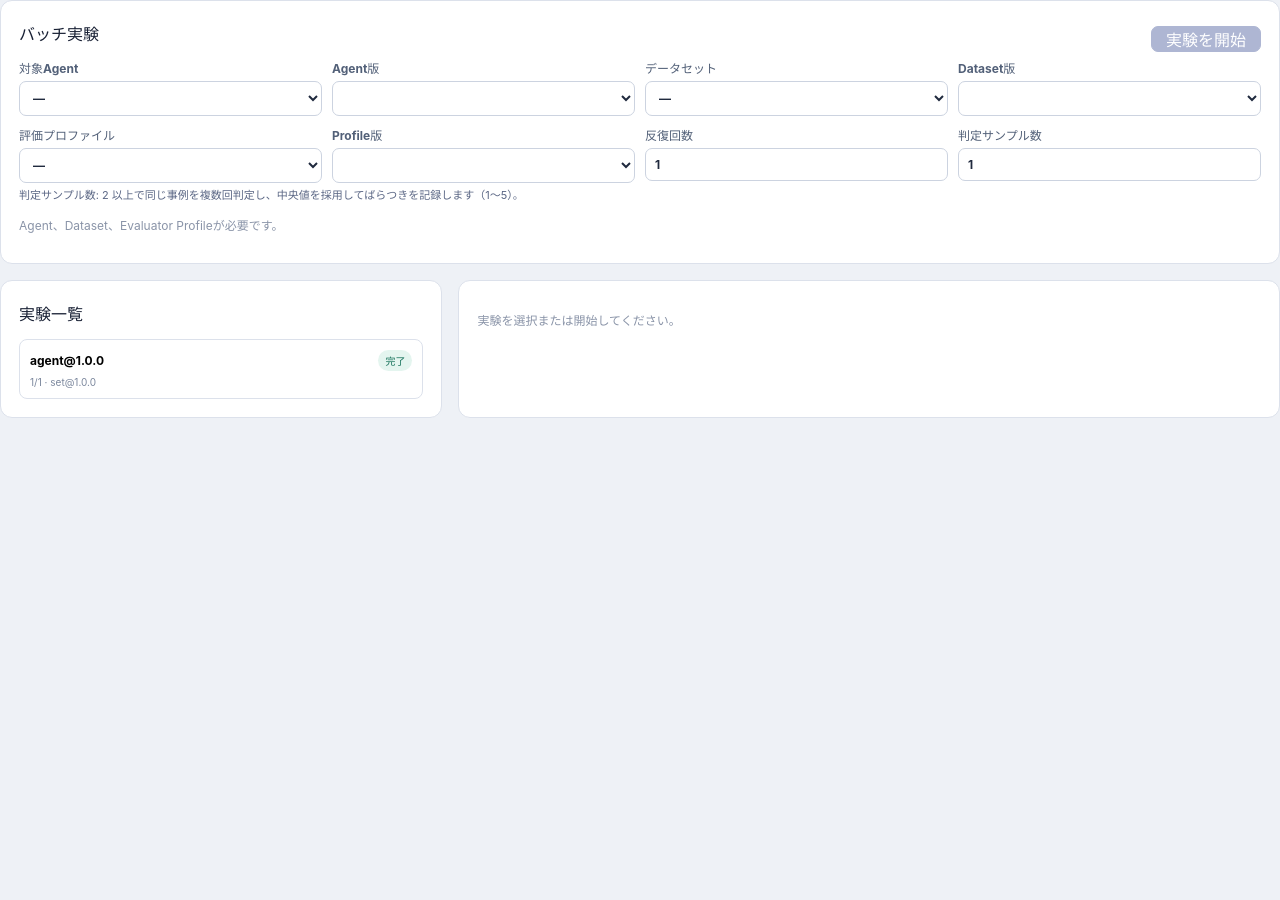
Test case: ExperimentsTab のトレース表示 › 日本語UIでは error / mcp-server-skipped の行が日本語になる
Click the button "agent@1.0.0 完了 1/1 · set@1.0.0".
click(47, 360)  # box [19,338,423,398]
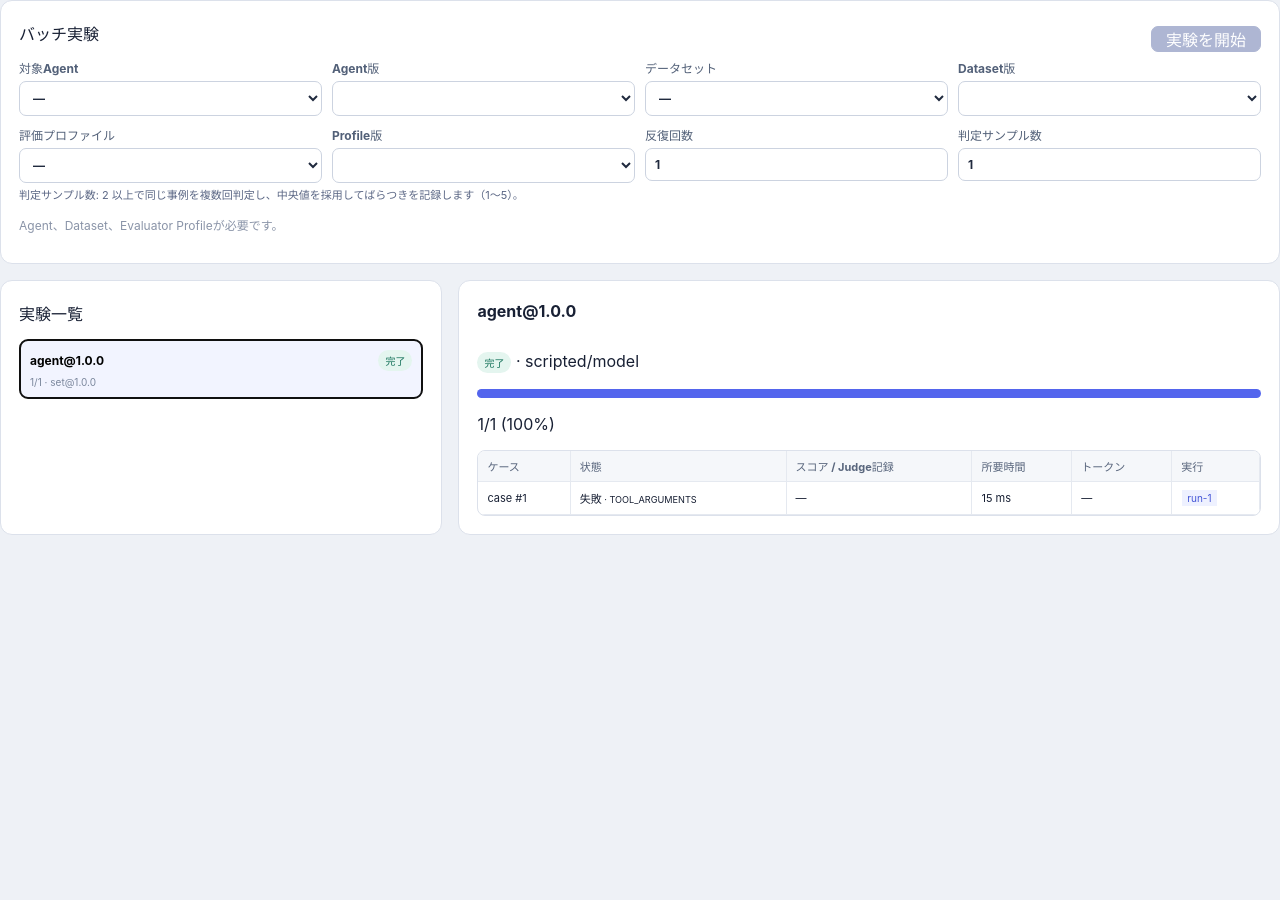
Click the button "run-1".
click(1199, 498)  # box [1182,490,1217,506]
(page scrolled)
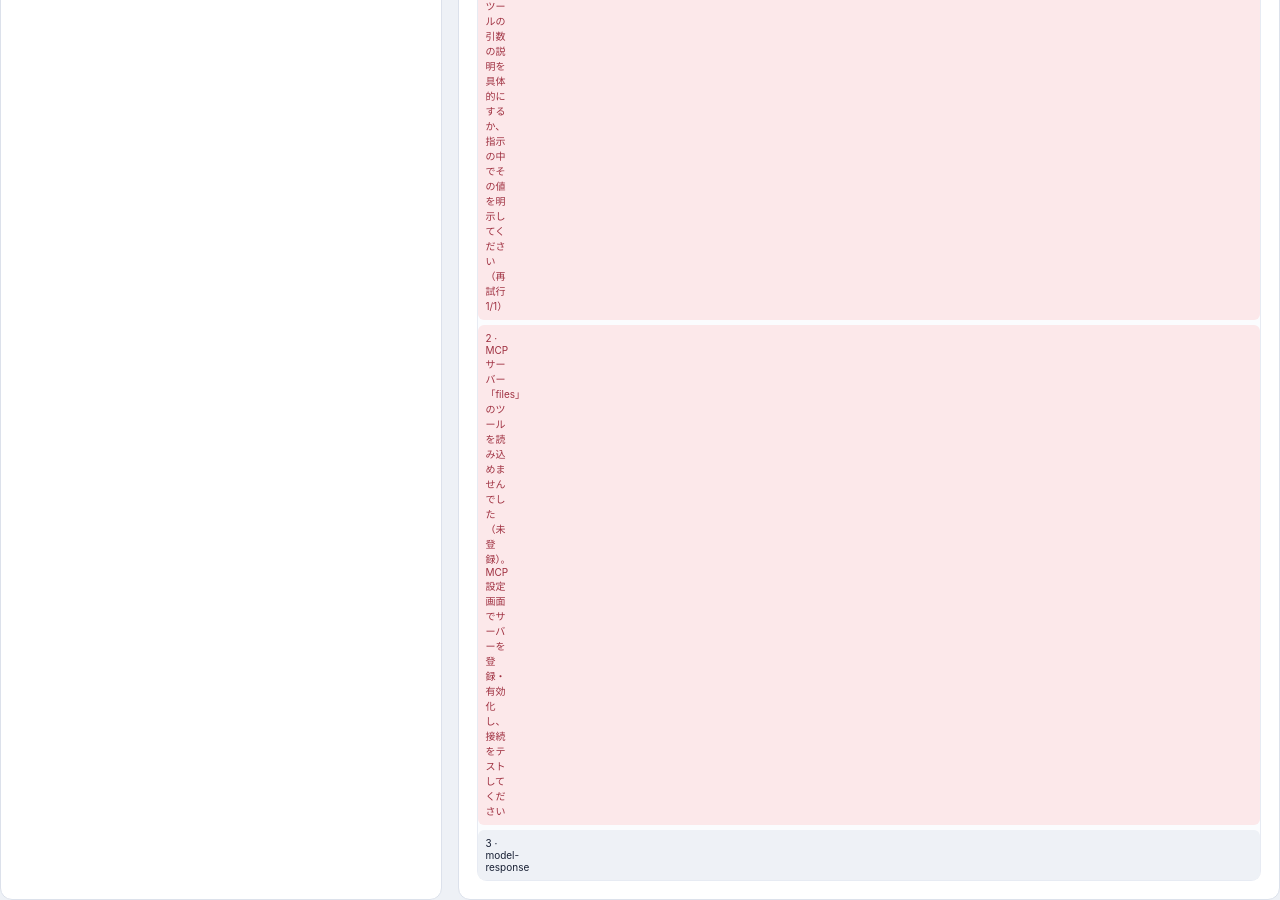
Expected: the text "2 · MCPサーバー「files」のツールを読み込めませんでした（未登録）。MCP設定画面でサーバーを登録・有効化し、接続をテストしてください" is shown, [478,324,1260,824]
Expected: the text "3 · model-response" is shown, [478,830,1260,880]
